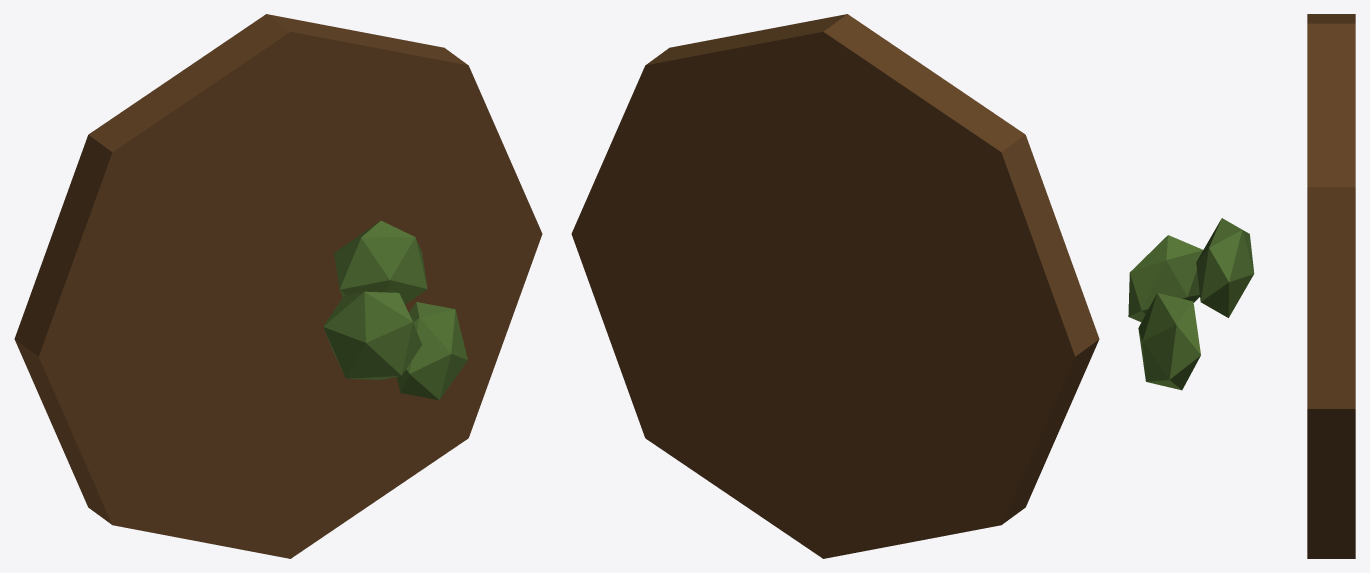
File: stage_1.obj
3 views of the same model, side by side, from view 1: azimuth 30°, elevation 25°; view 2: azimuth 150°, elevation 25°; view 3: azimuth 270°, elevation 25° (orthographic).
Visible parts, largest first — view 1: Tomato_Stage1_v2; view 2: Tomato_Stage1_v2; view 3: Tomato_Stage1_v2.
Boxes of the visible parts, box(x1,y1,x2,y2) form: Tomato_Stage1_v2: box(14, 14, 542, 558); Tomato_Stage1_v2: box(571, 14, 1099, 558); Tomato_Stage1_v2: box(1128, 14, 1355, 558).
Size of the model in its own units: 0.24 by 0.24 by 0.094.
